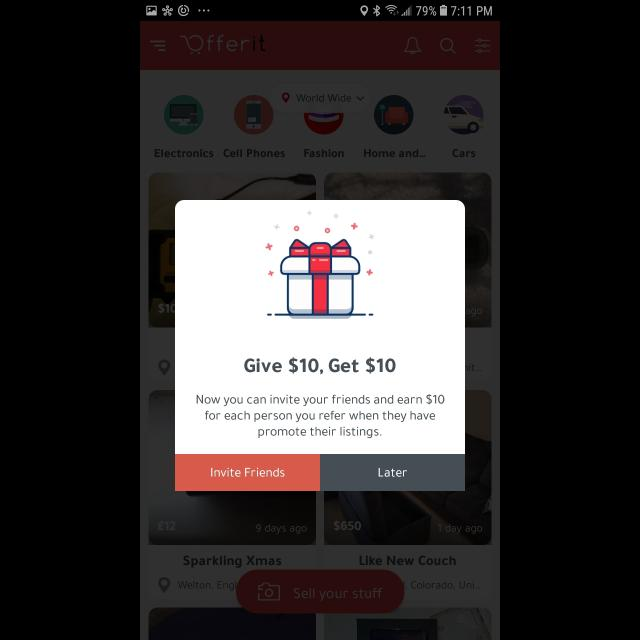image: (266, 212, 374, 321)
panel: (175, 200, 465, 492)
text: (196, 394, 444, 438), (244, 358, 396, 374)
textbutton: (320, 454, 464, 491), (176, 454, 320, 491)
uppertaskbar: (140, 0, 500, 20)
